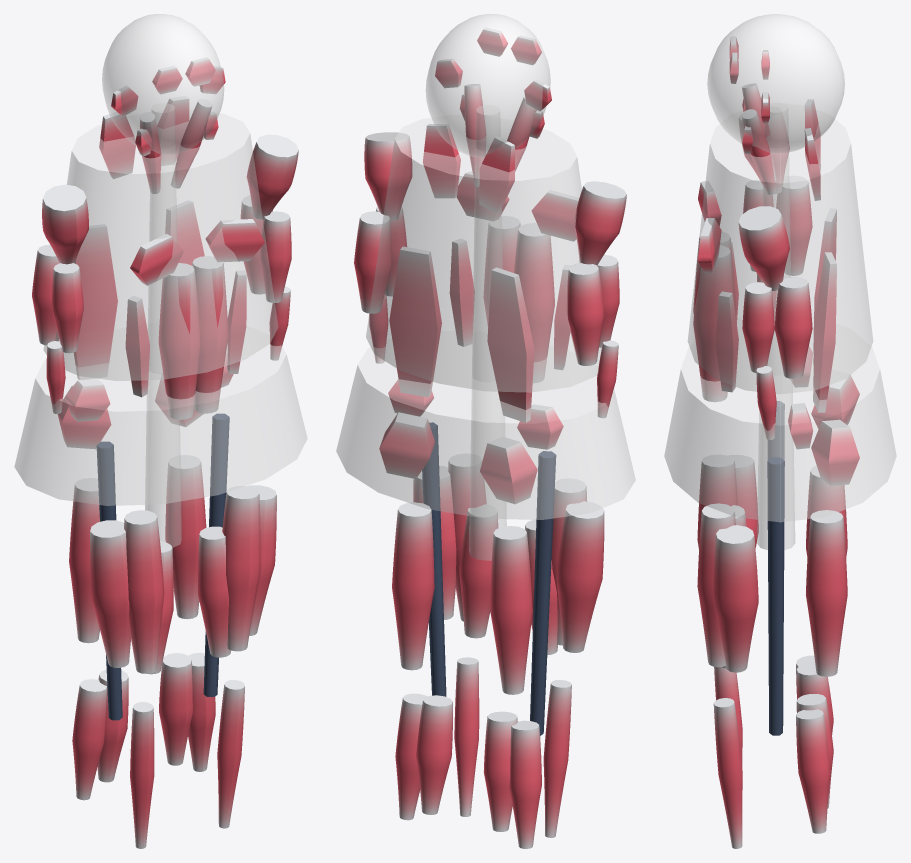
The model's file is Anatomia_Femenina_Premium_3D.gltf.
The picture shows the model from 3 angles, left to right: view 1: azimuth 30°, elevation 25°; view 2: azimuth 150°, elevation 25°; view 3: azimuth 270°, elevation 25°; orthographic projection. The views are drawn at different scales.
Size of the model in its own units: 3.58 by 10.2 by 2.66.
